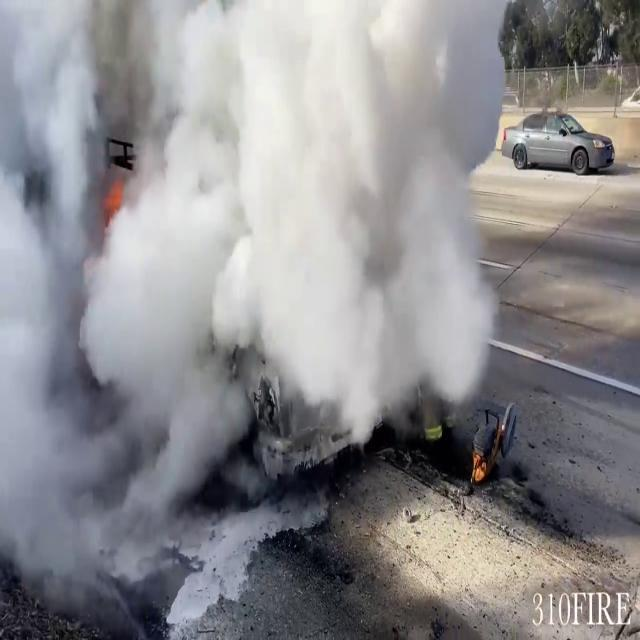Smoke: (0, 0, 512, 540)
